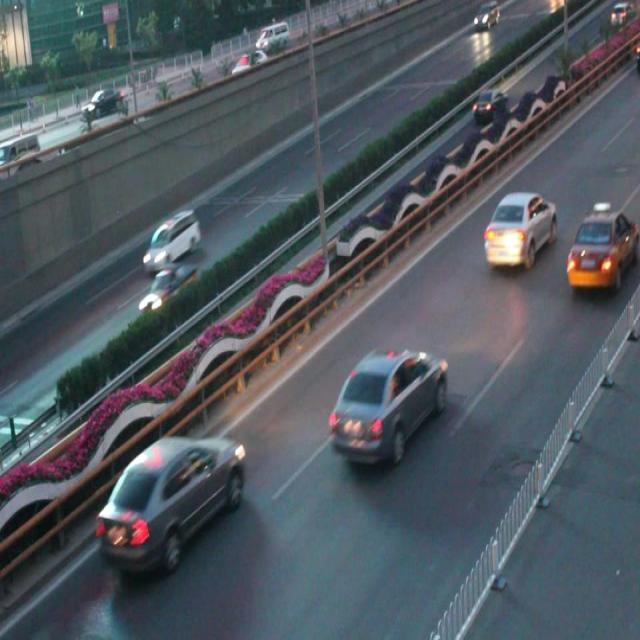car: (99, 433, 244, 566), (331, 345, 446, 466), (566, 203, 640, 289), (482, 192, 555, 268), (137, 264, 198, 314), (471, 86, 506, 121)
truck: (142, 211, 200, 267)
